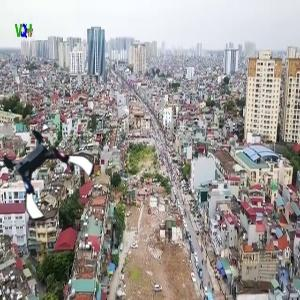drone: (3, 128, 89, 214)
